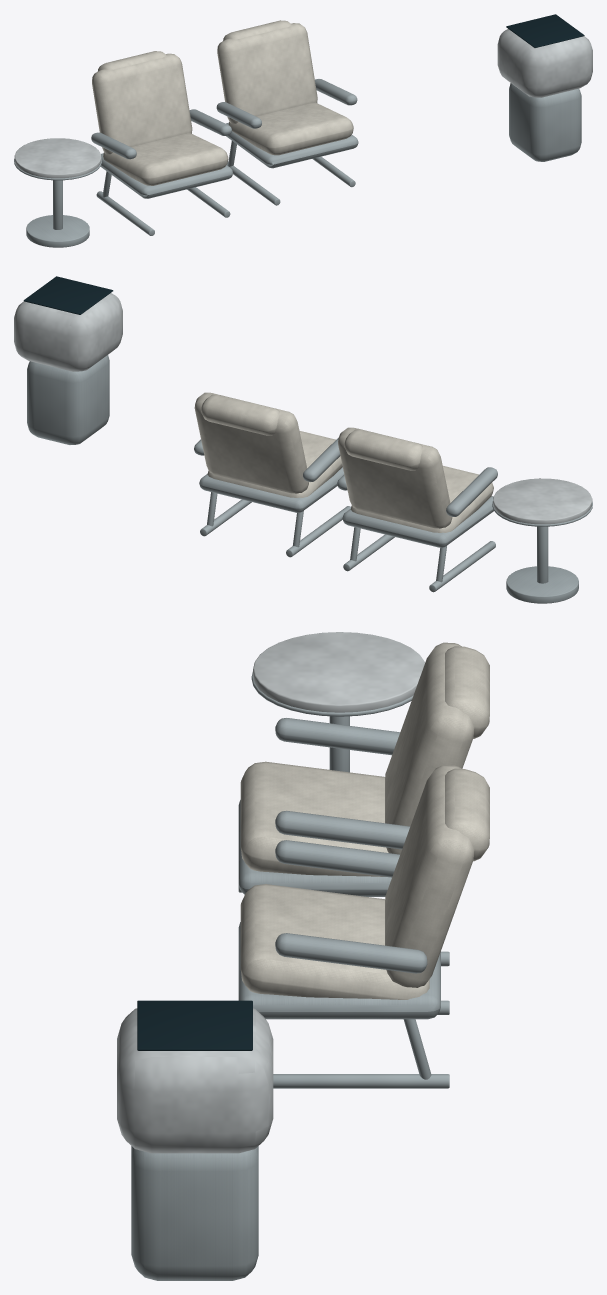
File: orbital-furniture.glb
3 views of the same model, one above another, from view 1: azimuth 30°, elevation 25°; view 2: azimuth 150°, elevation 25°; view 3: azimuth 270°, elevation 25° (orthographic). The views are drawn at different scales.
Visible parts, largest first — view 1: Sculpted seat cushion, Sled front foot, Honed stone side table, Inset console surface; view 2: Sculpted seat cushion, Sled front foot, Honed stone side table, Inset console surface; view 3: Sculpted seat cushion, Sled front foot, Honed stone side table, Inset console surface.
Part boxes in pixels (x1,y1,x2,y2): Sculpted seat cushion: [92, 20, 353, 185]; Sled front foot: [14, 79, 581, 247]; Honed stone side table: [14, 29, 592, 178]; Inset console surface: [506, 14, 584, 47]; Sculpted seat cushion: [194, 392, 493, 532]; Sled front foot: [27, 355, 592, 603]; Honed stone side table: [14, 293, 592, 524]; Inset console surface: [23, 276, 113, 314]; Sculpted seat cushion: [240, 642, 489, 999]; Sled front foot: [131, 672, 449, 1280]; Honed stone side table: [117, 632, 424, 1153]; Inset console surface: [137, 1000, 252, 1050].
Bounding box in the file's own units: 4.18 × 0.9794 × 1.29.
Materials: 4 (3 with a texture image).
